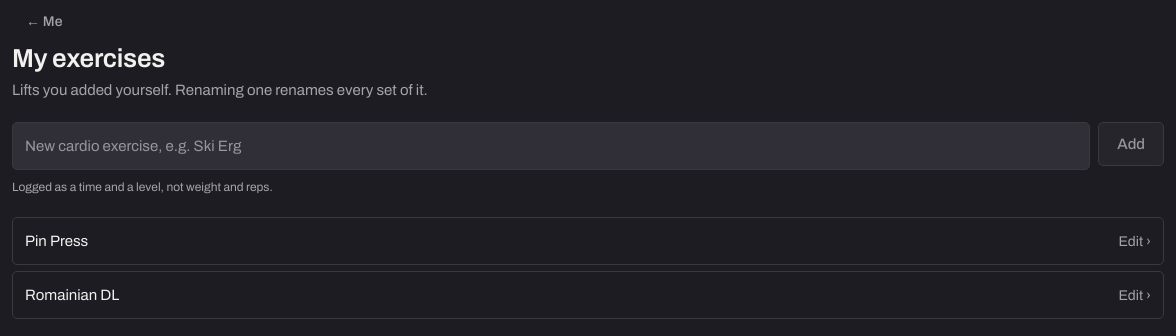
Test: My exercises: cardio (F23) › refuses a name the library already has, and says where it is
Type "squat" into the field labelled "New cardio exercise".
click(551, 146); type("squat")  # box [12,122,1090,170]
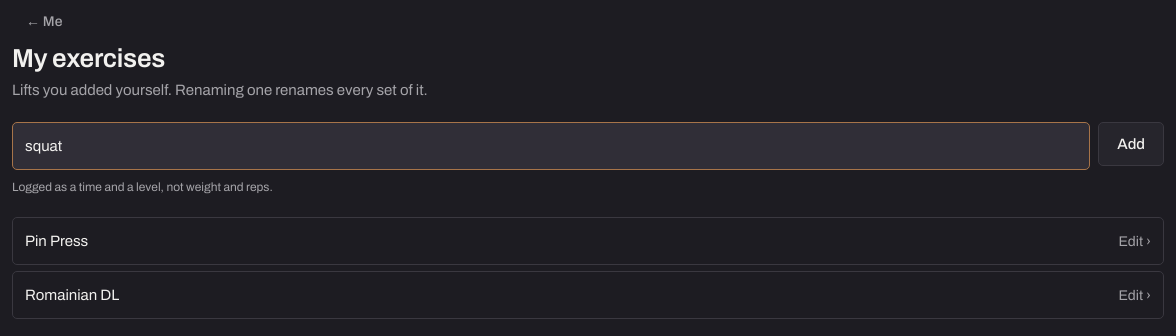
Click the button "Add".
click(1131, 144)  # box [1098,122,1164,166]
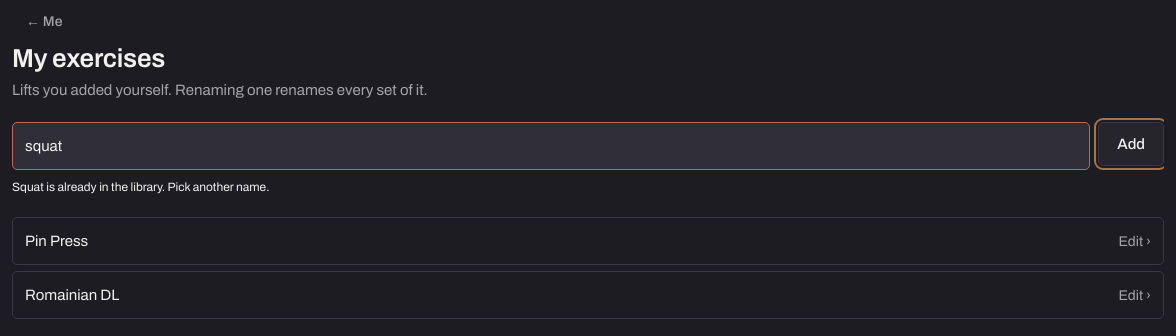
Expected: the message shows "Squat is already in the library", [12,180,270,194]
